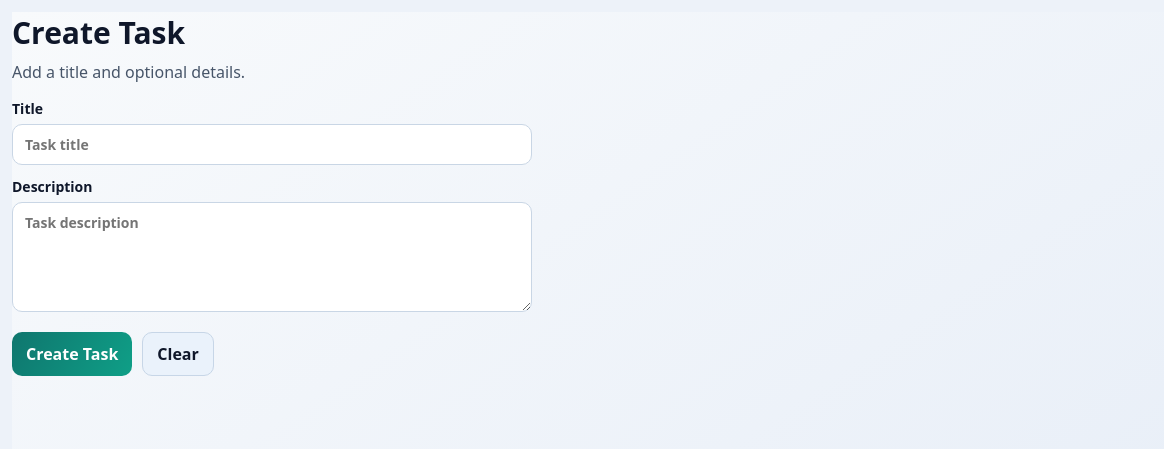
Test case: CreateTaskPage › creates a task and shows success message
Type "Ship feature" into the field with placeholder "Task title" at (272, 144), box [12,124,532,165]
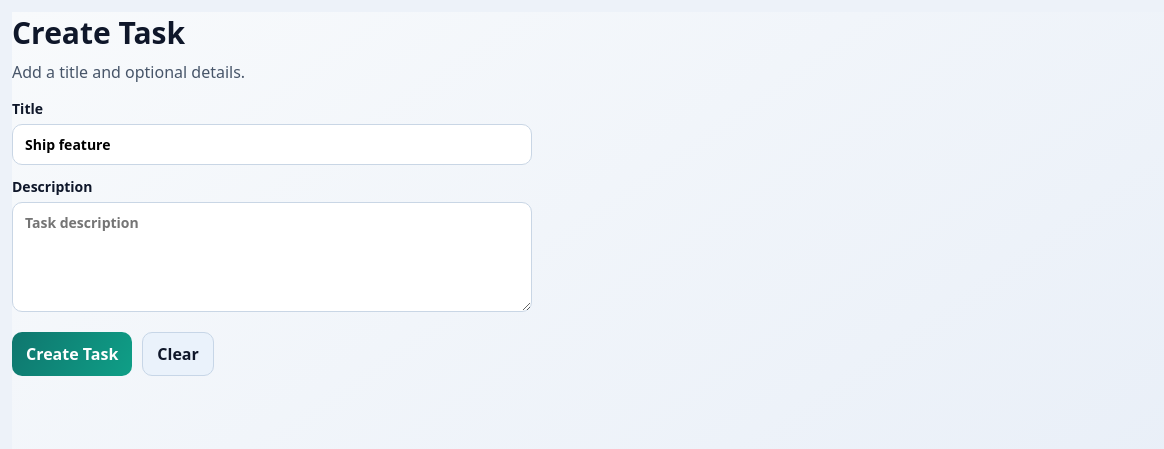
Type "Deploy with confidence" into the text box with placeholder "Task description" at (272, 257), box [12,202,532,312]
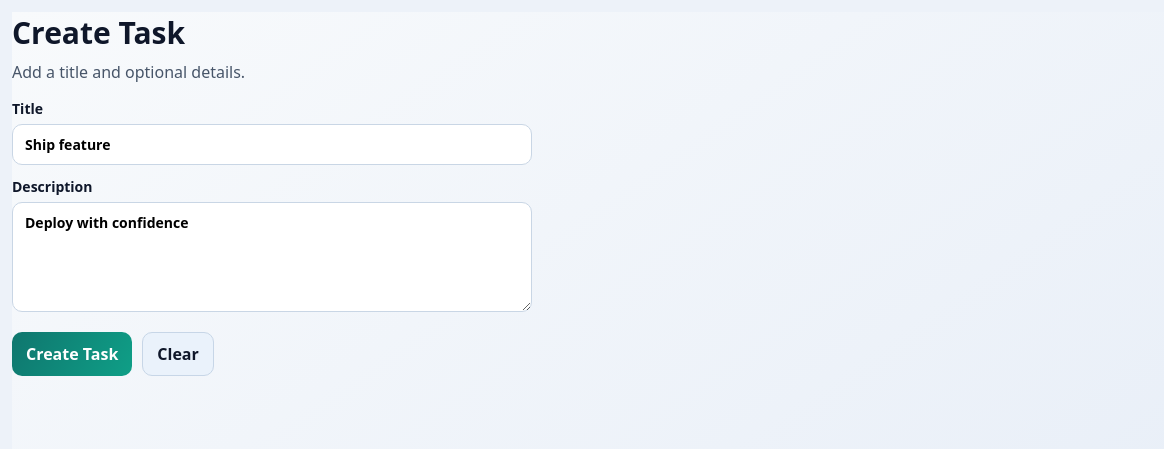
Click the button "Create Task" at (72, 354), box [12,332,132,376]
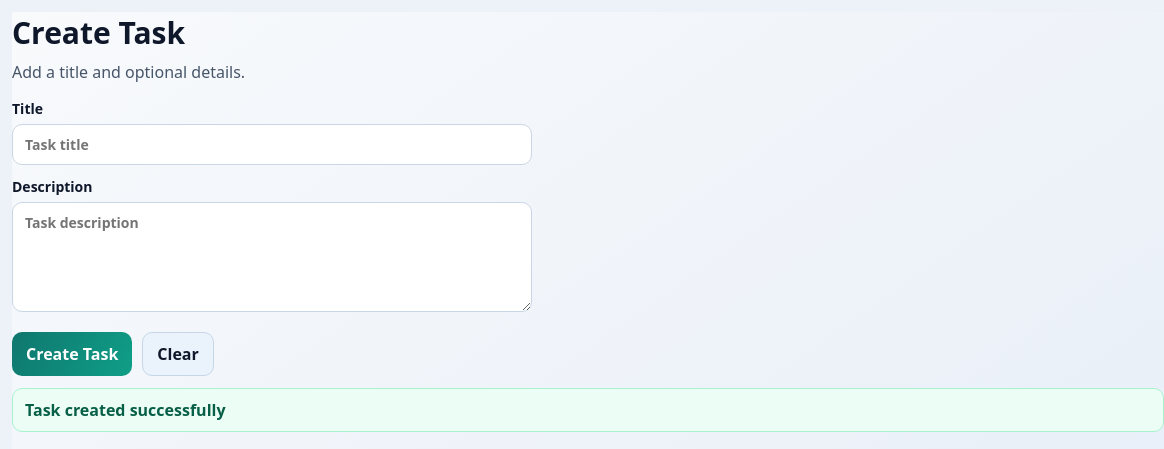
expect the text "Task created successfully" is shown: met, box [12,388,1163,432]
